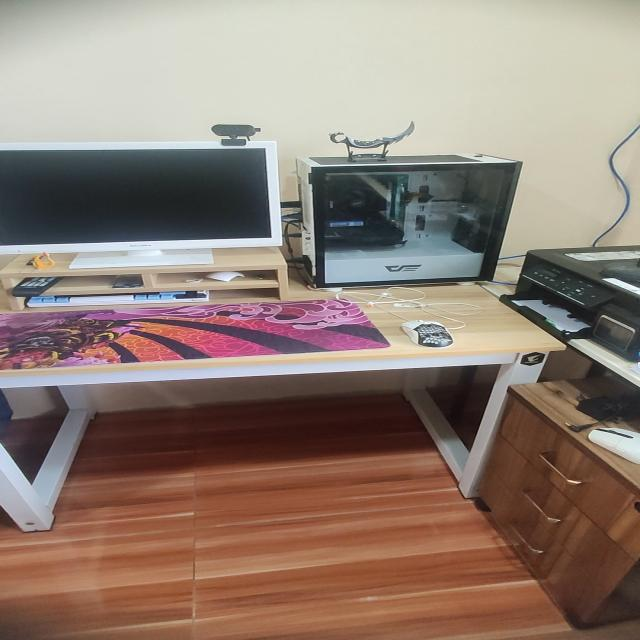table: (0, 280, 569, 532)
